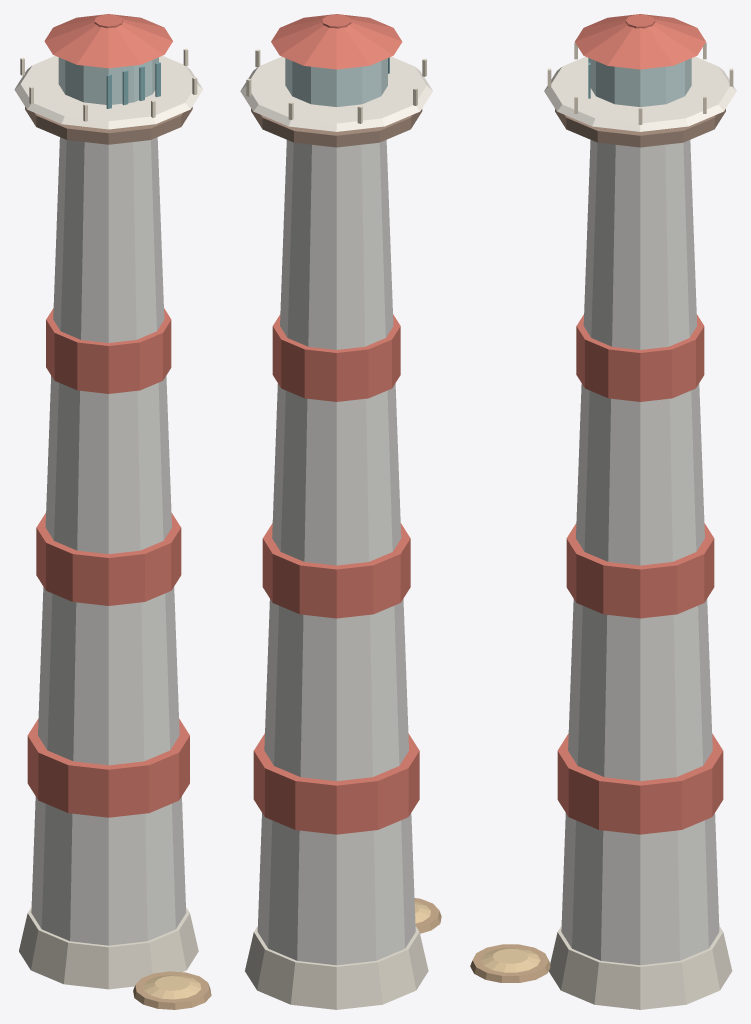
The model's file is lighthouse_near-09YIaHFl.glb.
The picture shows the model from 3 angles, left to right: view 1: azimuth 30°, elevation 25°; view 2: azimuth 150°, elevation 25°; view 3: azimuth 270°, elevation 25°; orthographic projection. The views are drawn at different scales.
Visible parts, largest first — view 1: lighthouse_near; view 2: lighthouse_near; view 3: lighthouse_near.
Part boxes in pixels (x1,y1,x2,y2): lighthouse_near: (14, 14, 211, 1009); lighthouse_near: (240, 14, 441, 1009); lighthouse_near: (470, 14, 736, 1009).
Size of the model in its own units: 10.7 by 58.2 by 14.8.
